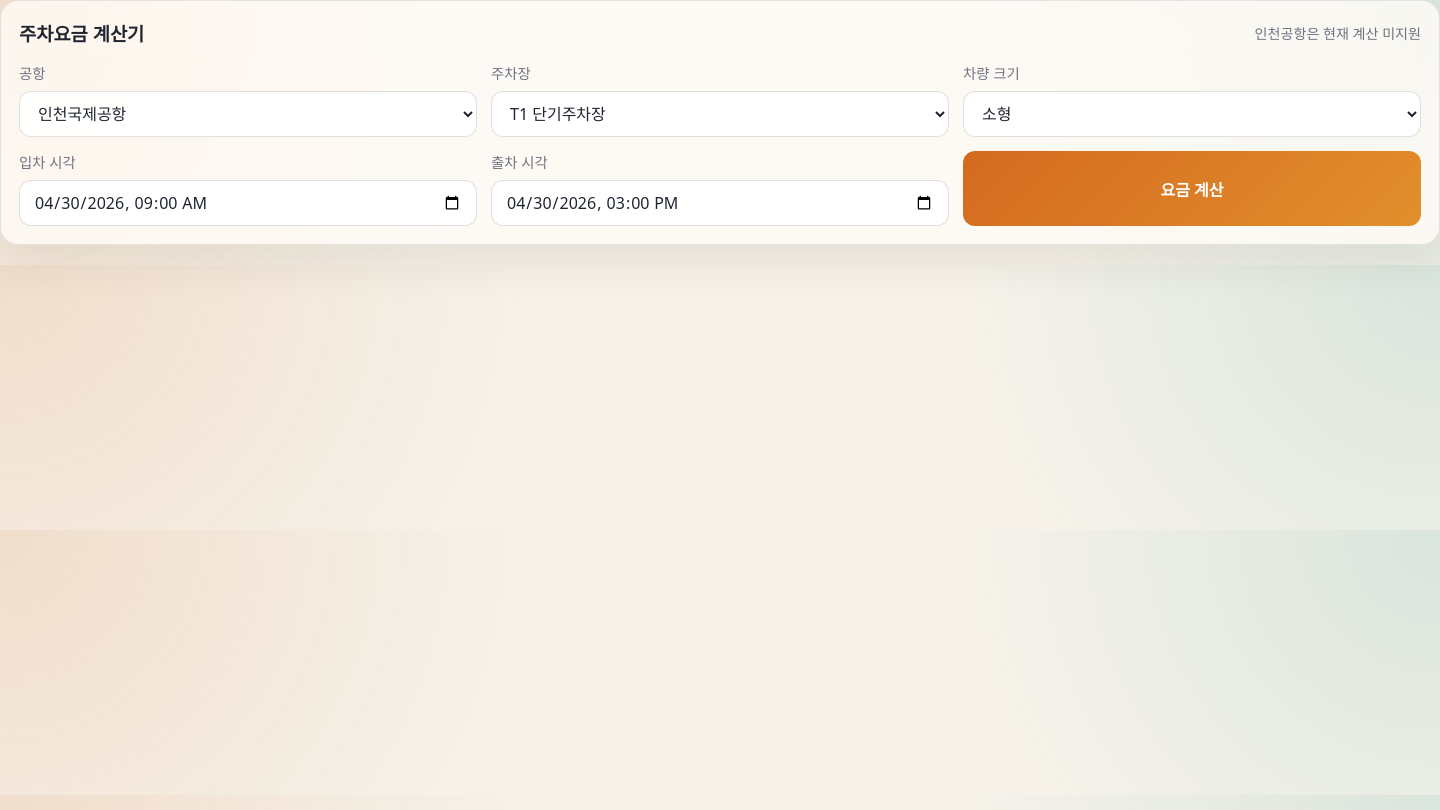
it: FeeCalculator › shows unsupported message for incheon
Click the button "요금 계산": (1192, 188) [963,151,1421,226]
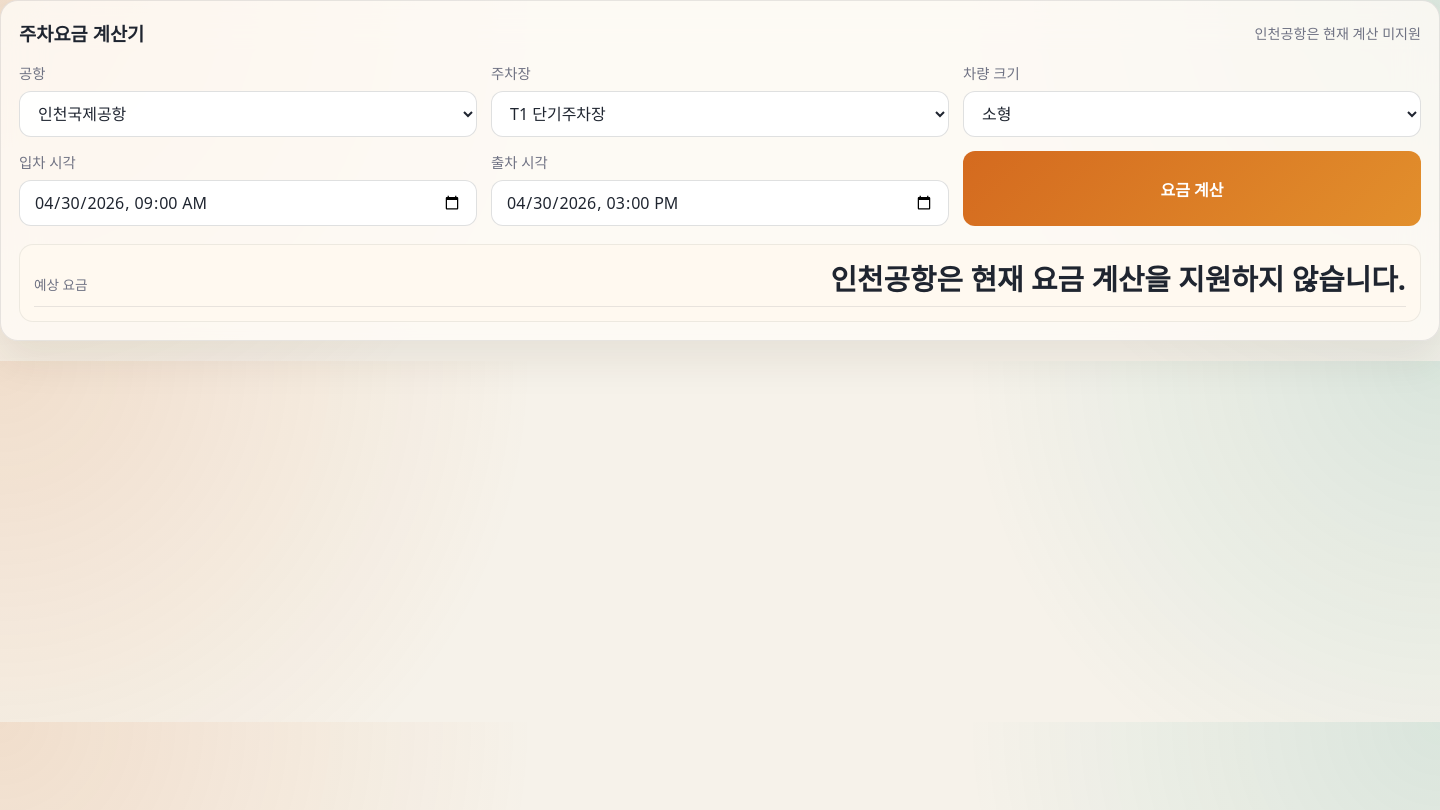
Result: the text "인천공항은 현재 요금 계산을 지원하지 않습니다." is shown at [830,265,1406,294]
